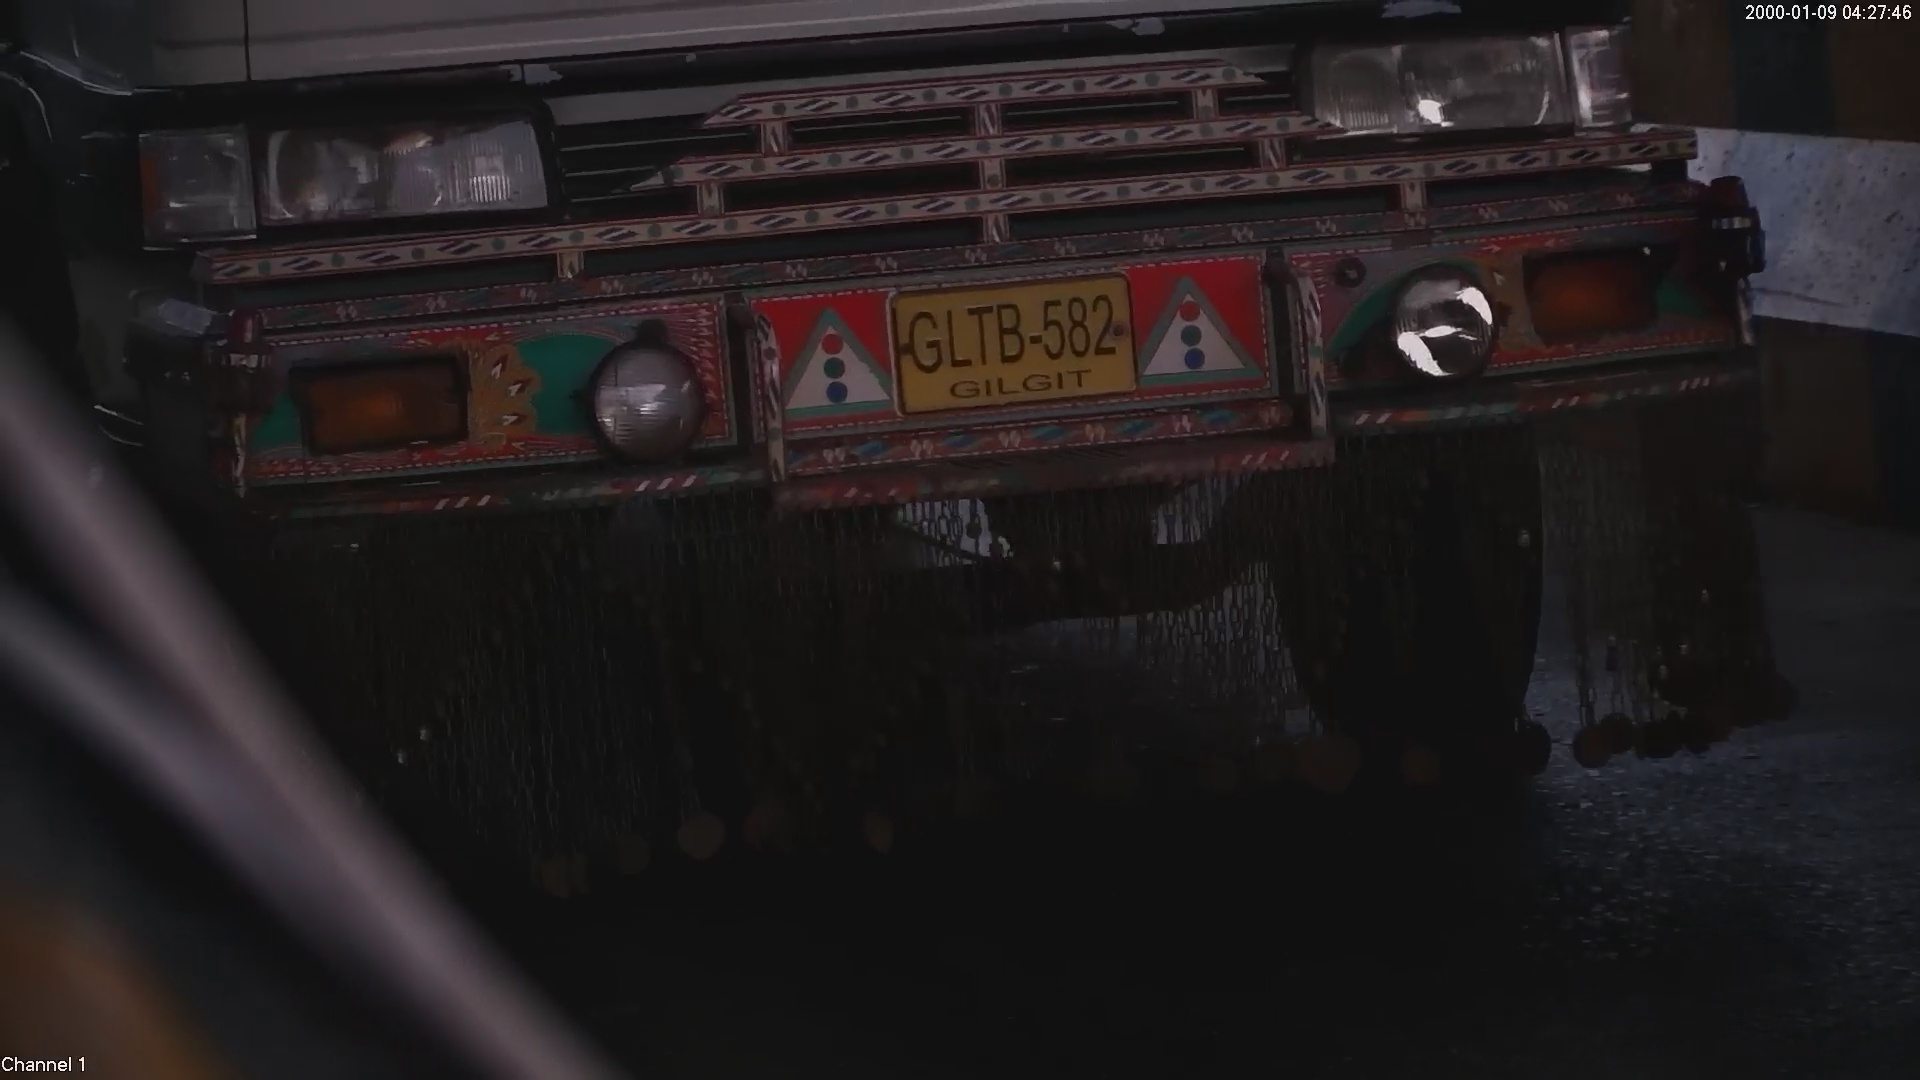Number_Plate: (873, 270, 1141, 412)
Undefined: (154, 131, 532, 233), (1306, 36, 1634, 136), (278, 349, 467, 444)
